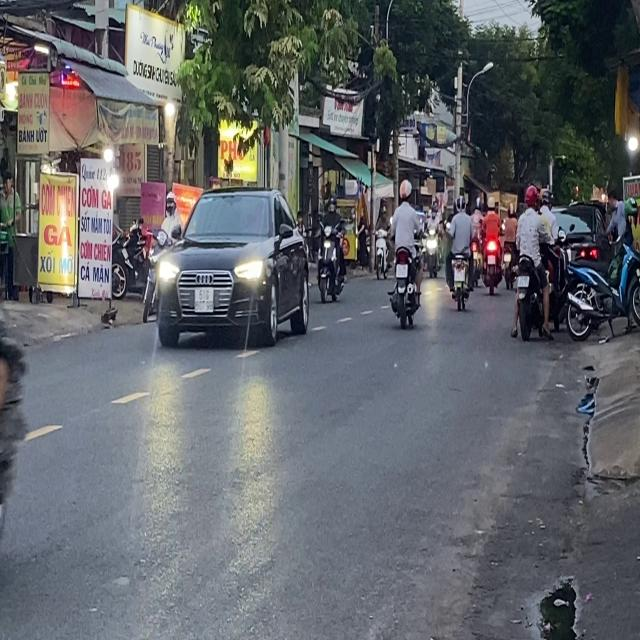helmet: (398, 178, 412, 202), (524, 183, 537, 208)
licenseplate: (511, 183, 552, 341), (388, 178, 424, 327)
nohelmet: (517, 275, 529, 287), (396, 264, 407, 276)
